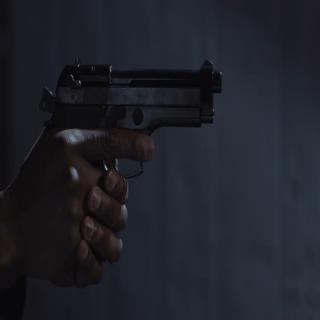gun: (36, 51, 222, 251)
